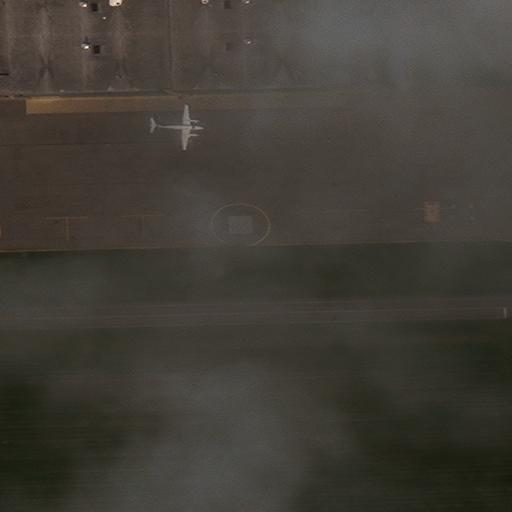Medium Civil Transport: (149, 105, 204, 149)
